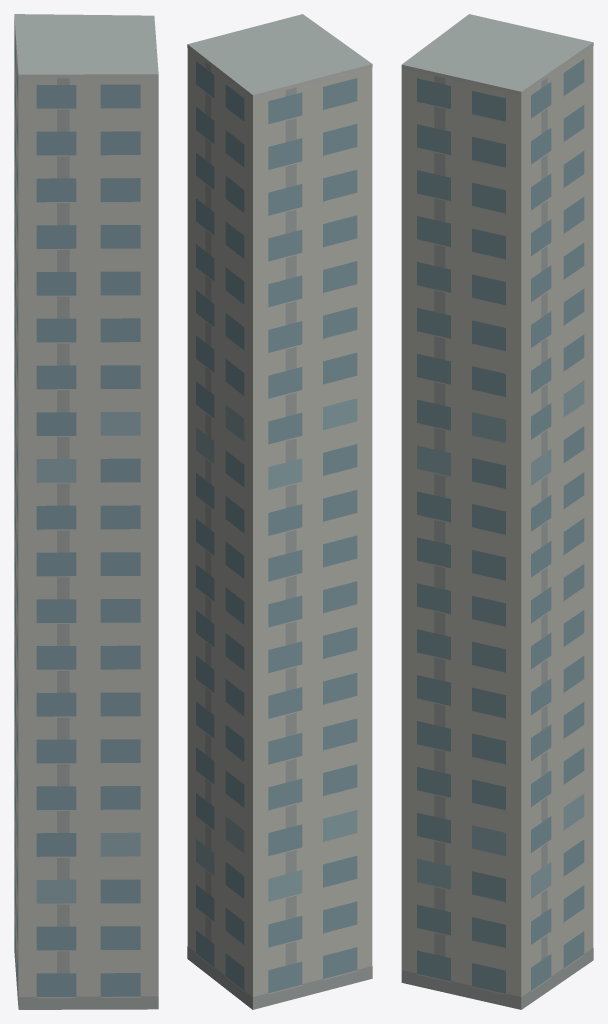
The model's file is survey-upis-33010726.glb.
The picture shows the model from 3 angles, left to right: view 1: azimuth 30°, elevation 25°; view 2: azimuth 150°, elevation 25°; view 3: azimuth 270°, elevation 25°; orthographic projection. The views are drawn at different scales.
Visible parts, largest first — view 1: survey-upis-33010726.tmp; view 2: survey-upis-33010726.tmp; view 3: survey-upis-33010726.tmp.
Part boxes in pixels (x1,y1,x2,y2): survey-upis-33010726.tmp: (14,14,158,1009); survey-upis-33010726.tmp: (187,14,372,1009); survey-upis-33010726.tmp: (401,14,593,1009).
Size of the model in its own units: 11.1 by 61 by 11.57.
